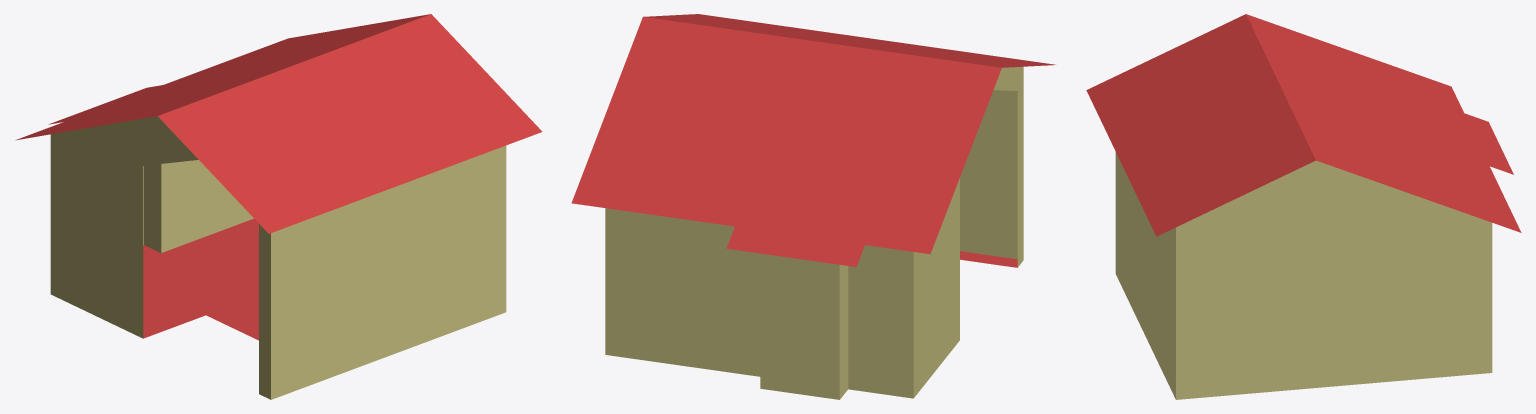
3 views of the same model, side by side, from view 1: azimuth 30°, elevation 25°; view 2: azimuth 150°, elevation 25°; view 3: azimuth 270°, elevation 25° (orthographic). The views are drawn at different scales.
Bounding box in the file's own units: 16.84 × 17.43 × 10.53.
